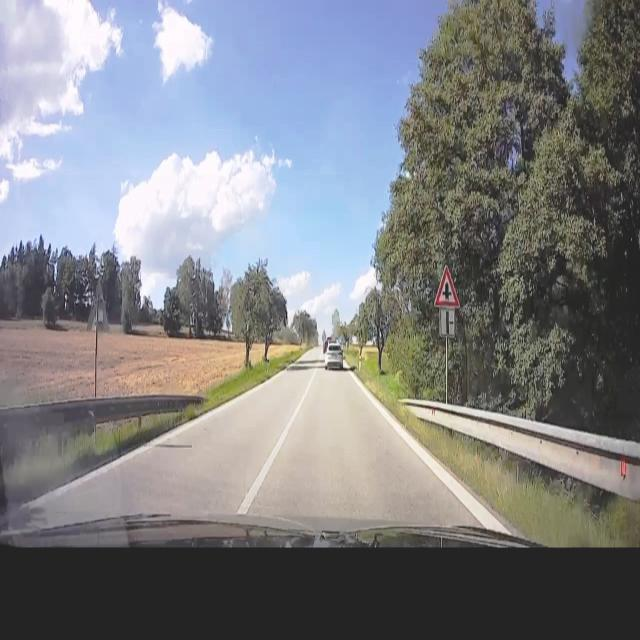Priority road: (433, 263, 462, 310)
